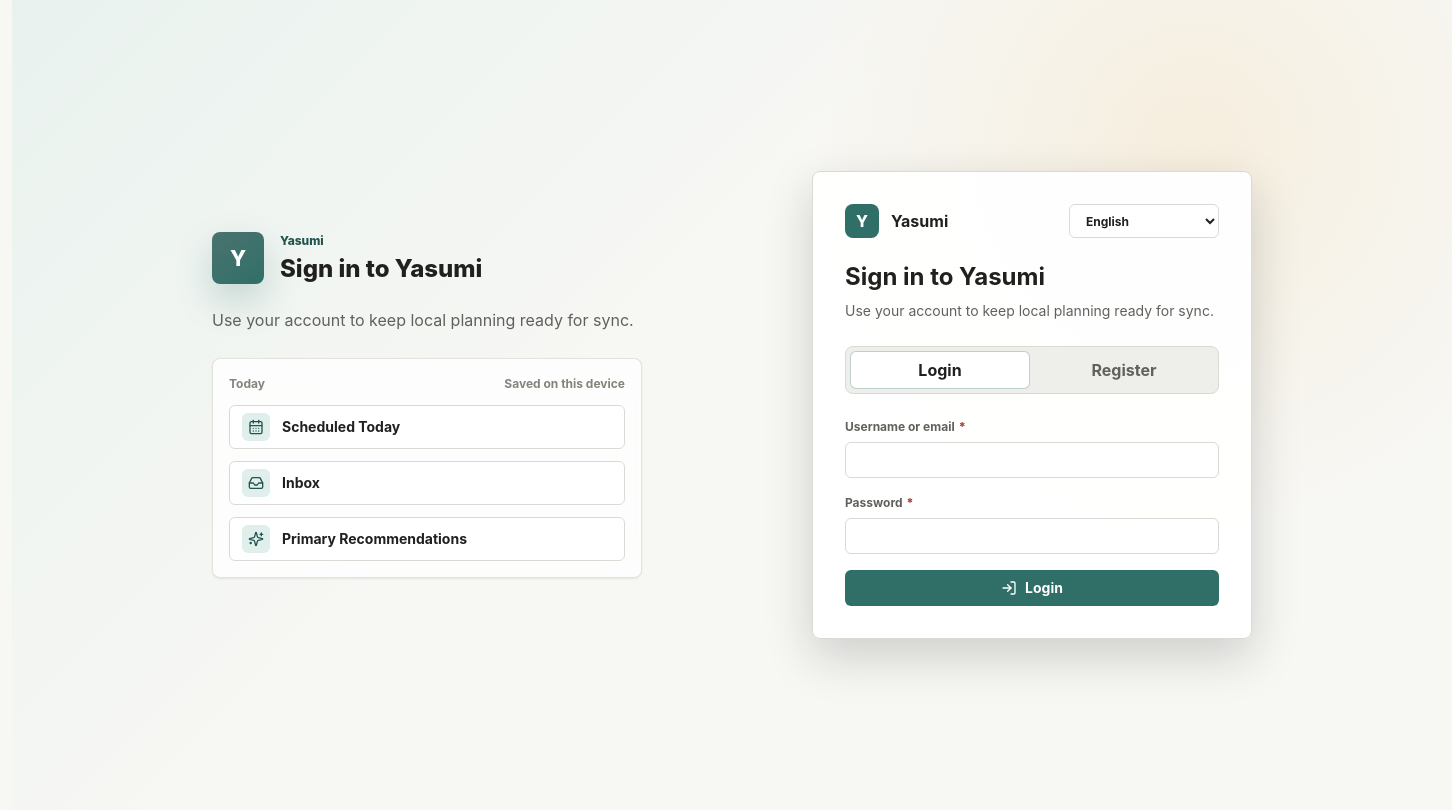
Test: AuthPage › switches language immediately while signed out without creating rejected sync state
The image size is (1452, 810).
Expected: the heading "Sign in to Yasumi" is shown, x1=845 y1=262 x2=1045 y2=291
Select "Simplified Chinese" in the dropdown named "Language" at (1144, 221), box x1=1069 y1=204 x2=1219 y2=238
(page scrolled)
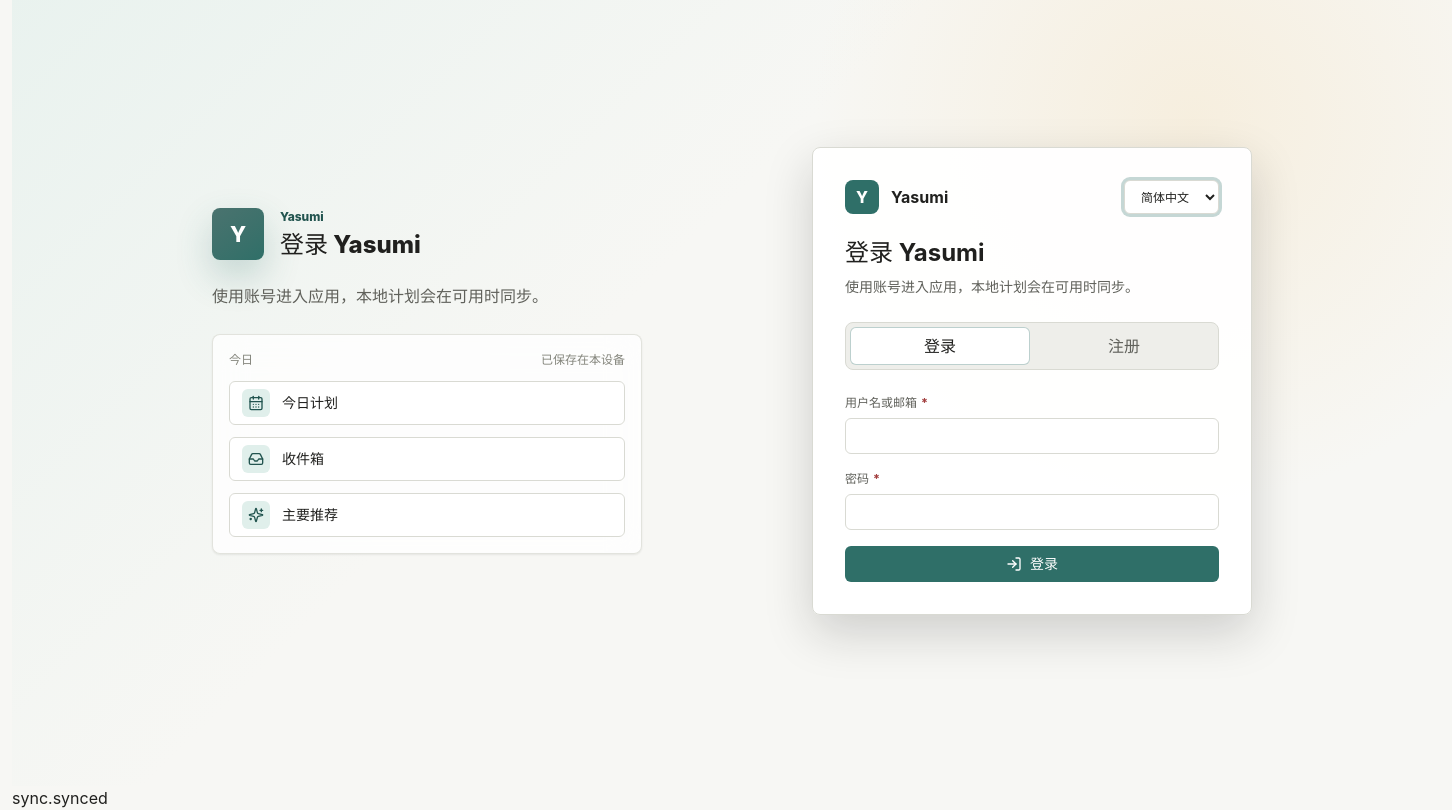
Expected: the text with test id "sync-label" reads "sync.synced", x1=12 y1=788 x2=108 y2=808
Now the heading "登录 Yasumi" is shown, box x1=845 y1=238 x2=984 y2=267
